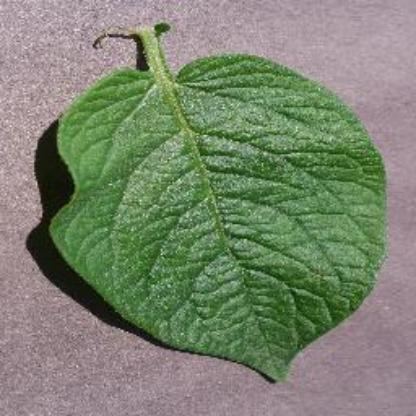Healthy-plant: (43, 18, 393, 390)
